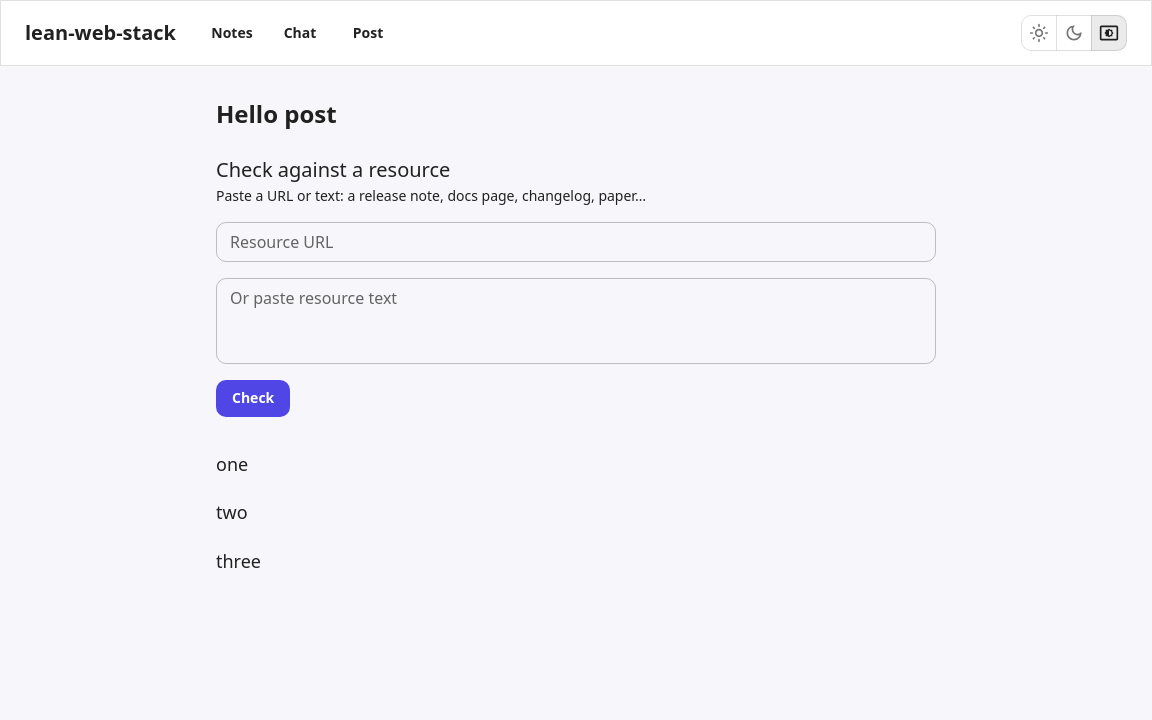
Test: check posts the URL, lists flags, marks paragraphs and notes a cached result
Step 1. Type "https://x.test/r" into the field labelled "Resource URL" → (576, 242), box x1=216 y1=222 x2=936 y2=262
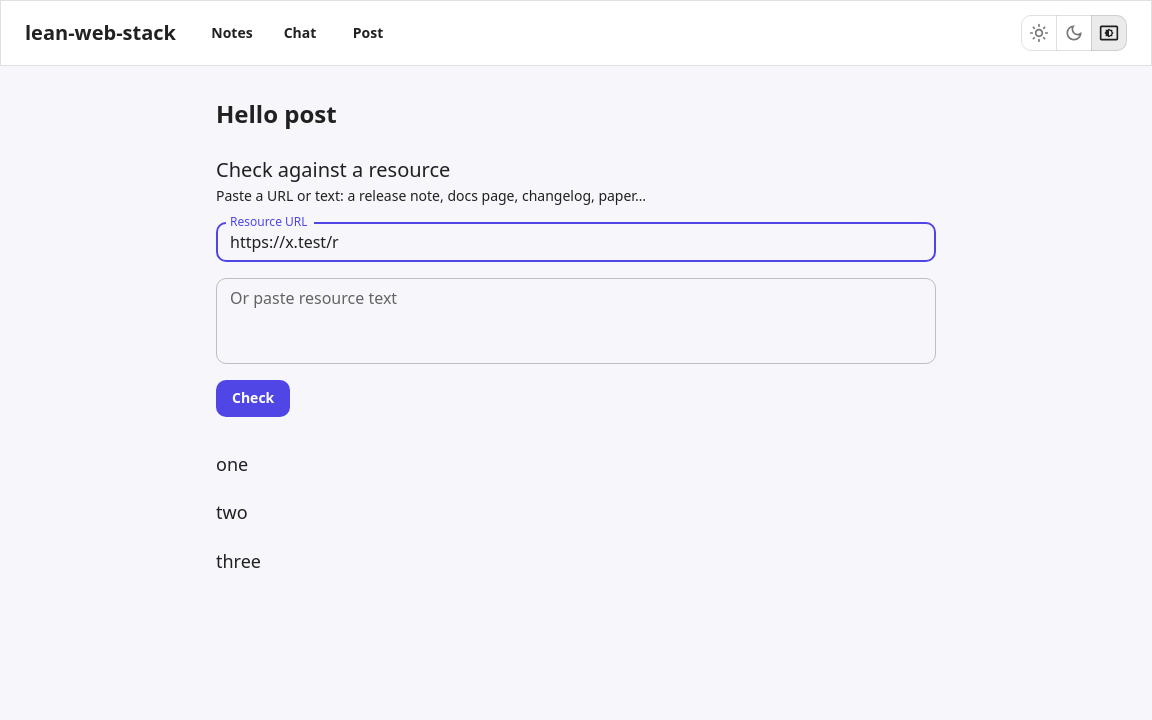
Step 2. Click the button "Check" → (253, 398), box x1=216 y1=380 x2=290 y2=416
(page scrolled)
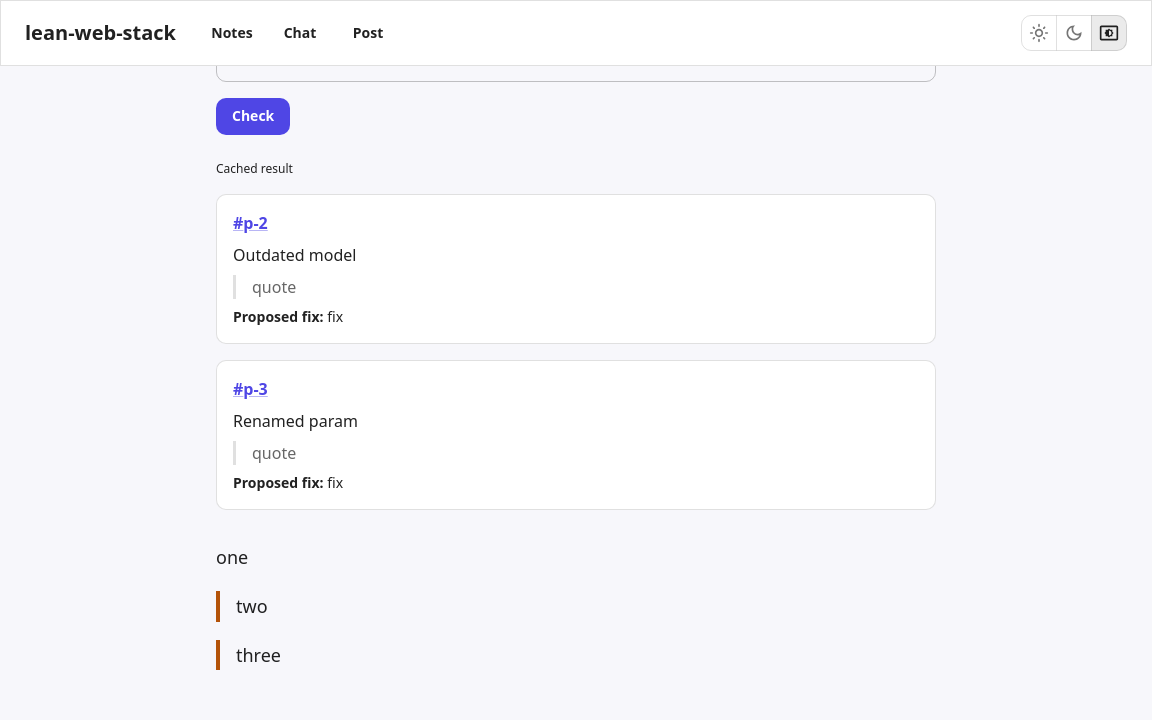
Expected: the text "Outdated model" is shown, x1=233 y1=244 x2=356 y2=266
Expected: the text "Cached result" is shown, x1=216 y1=160 x2=293 y2=176
